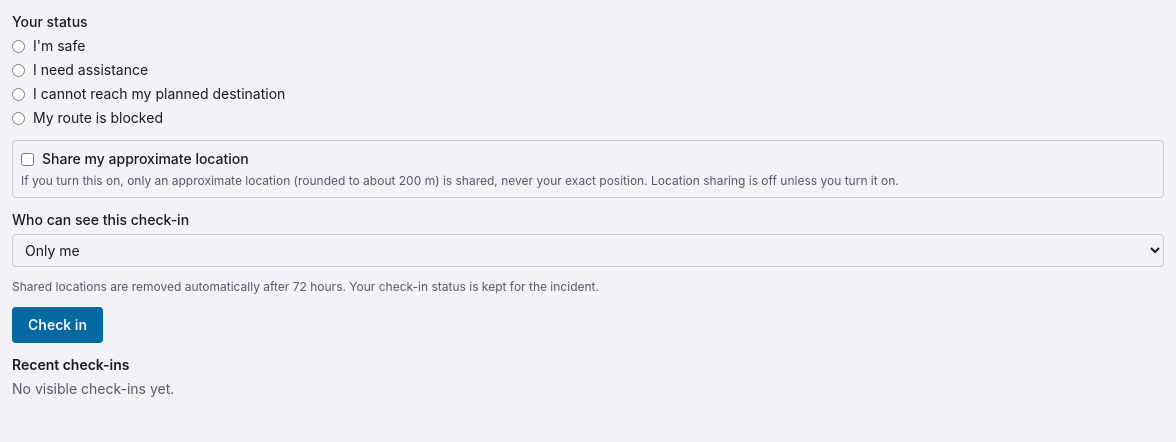
forms queue instead of sending while offline › CheckInPanel queues and says it was not sent, not "recorded"
What coordinates should you click on to do the following:
click the radio button labelled "I'm safe"
I would click on:
 (18, 46)
Its box is [12, 40, 25, 52].
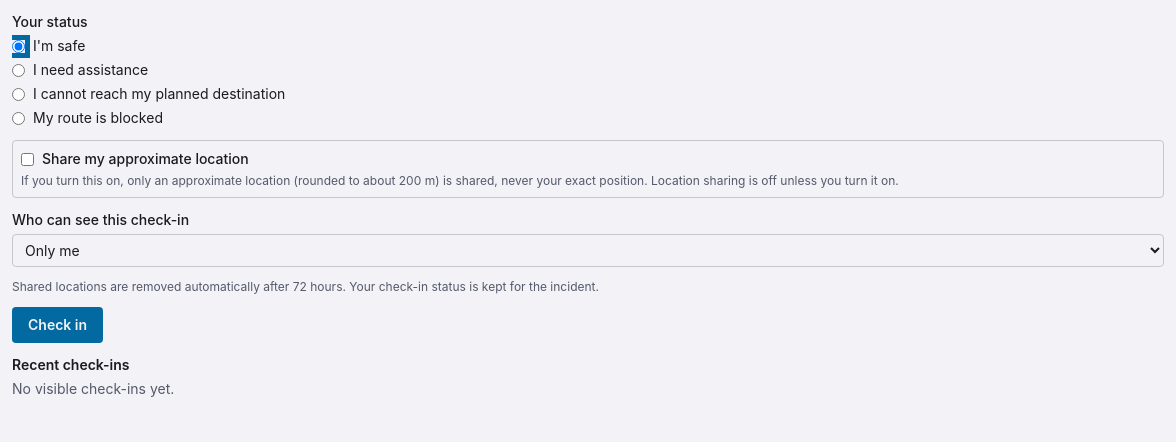
What coordinates should you click on to do the following:
click the button "Check in"
I would click on:
 (58, 325)
Its box is [12, 307, 103, 343].
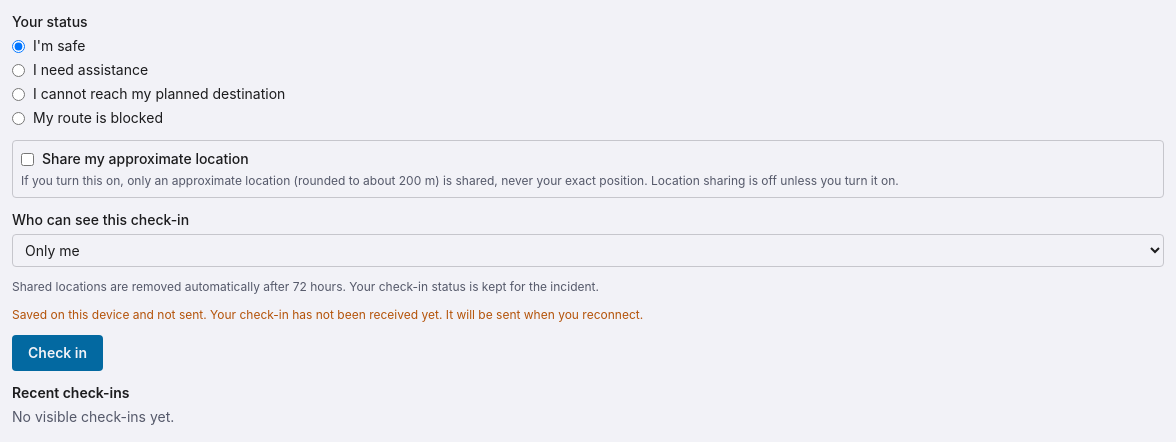
Now the text "Saved on this device and not sent" is shown, box [12, 307, 643, 322]
